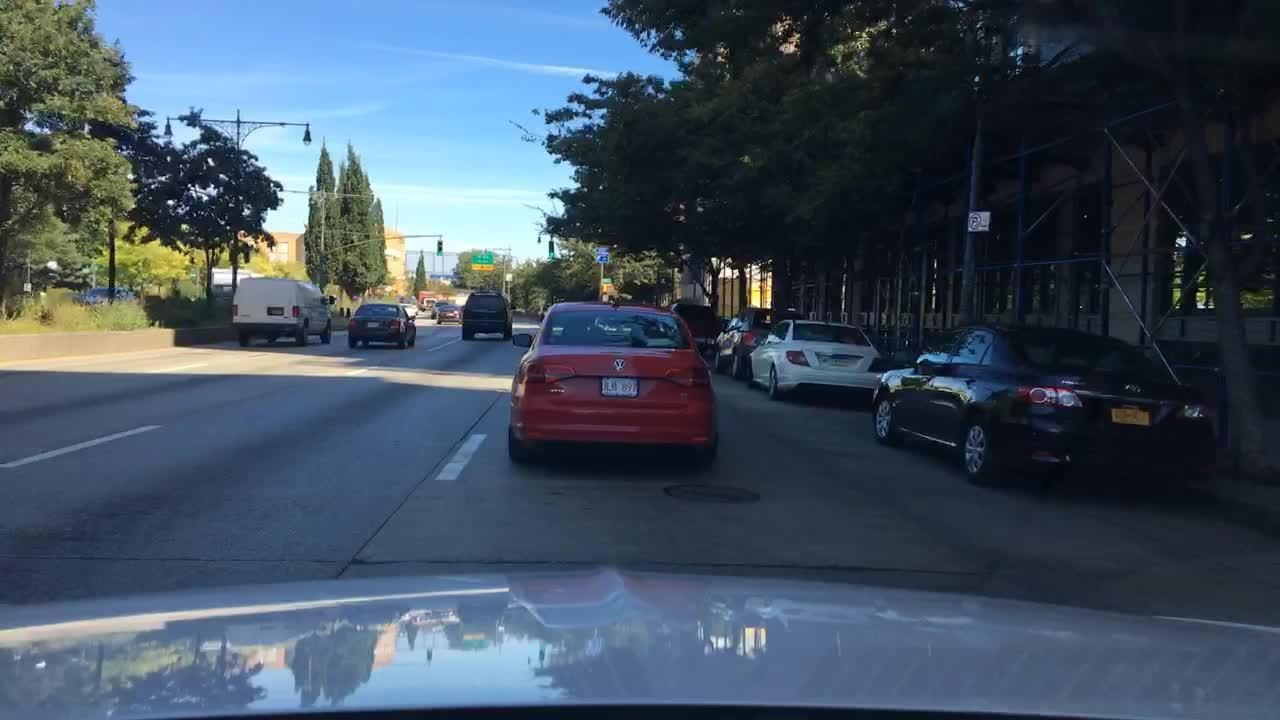Toyota: (1124, 382, 1145, 395)
Volkswagen: (611, 356, 627, 373)
